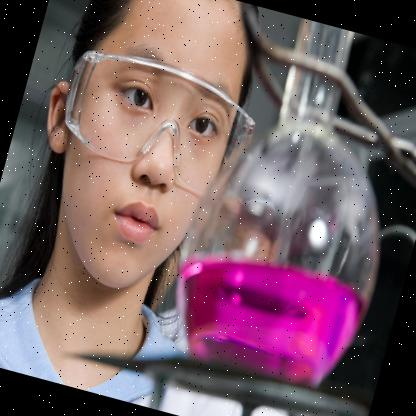oculos: (51, 42, 264, 204)
